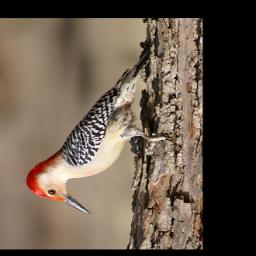Woodpecker: (22, 48, 175, 215)
